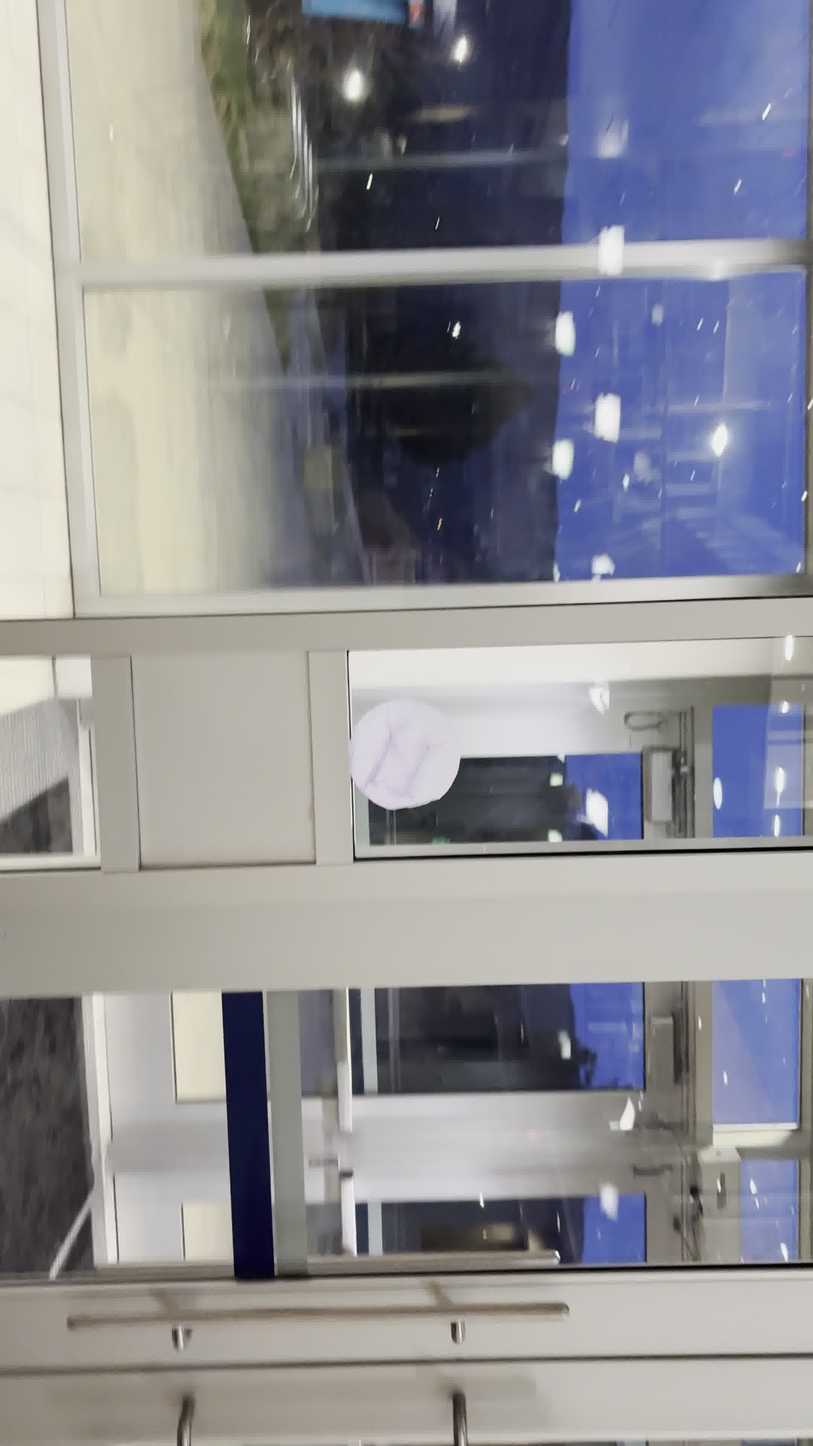Target: (346, 698, 462, 811)
